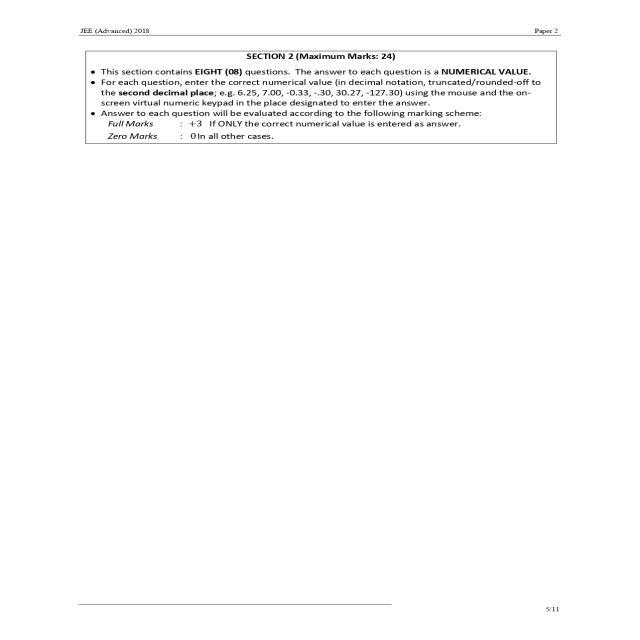Instruction: (58, 42, 584, 154)
Question_Paper_Area: (58, 42, 584, 584)
